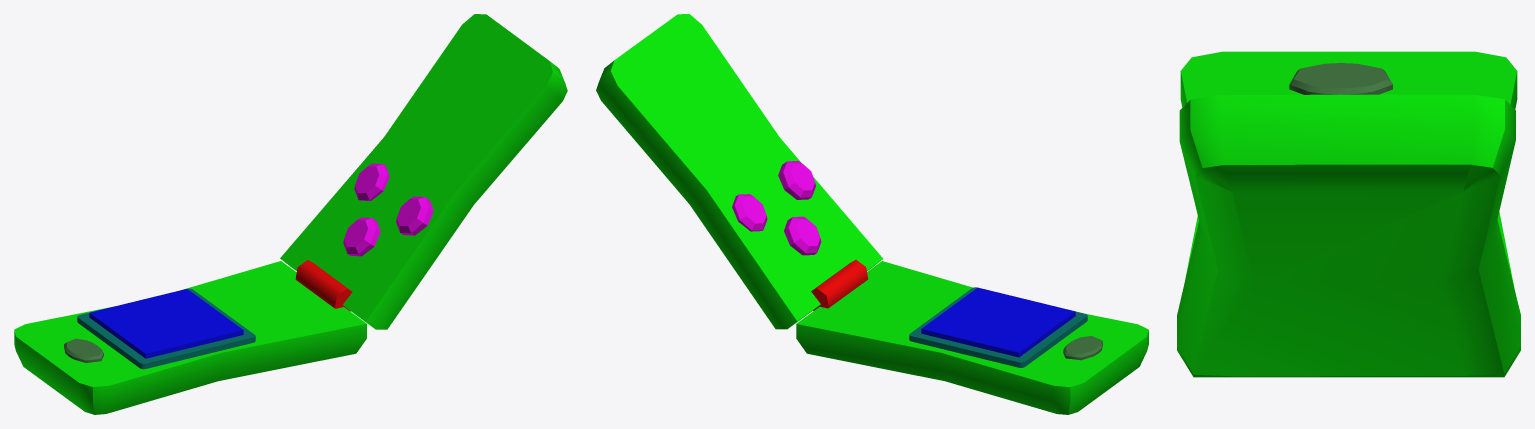
The model's file is phone.fbx.
3 renders of one model, left to right at view 1: azimuth 30°, elevation 25°; view 2: azimuth 150°, elevation 25°; view 3: azimuth 270°, elevation 25°, orthographic. The views are drawn at different scales.
Parts seen in each view (by area): view 1: polySurface10; view 2: polySurface10; view 3: polySurface10.
Boxes of the visible parts, left/top/right/bottom form: polySurface10: left=14, top=14, right=567, bottom=414; polySurface10: left=596, top=14, right=1148, bottom=414; polySurface10: left=1177, top=51, right=1520, bottom=377.
Bounding box in the file's own units: 157 × 75.9 × 48.1.
